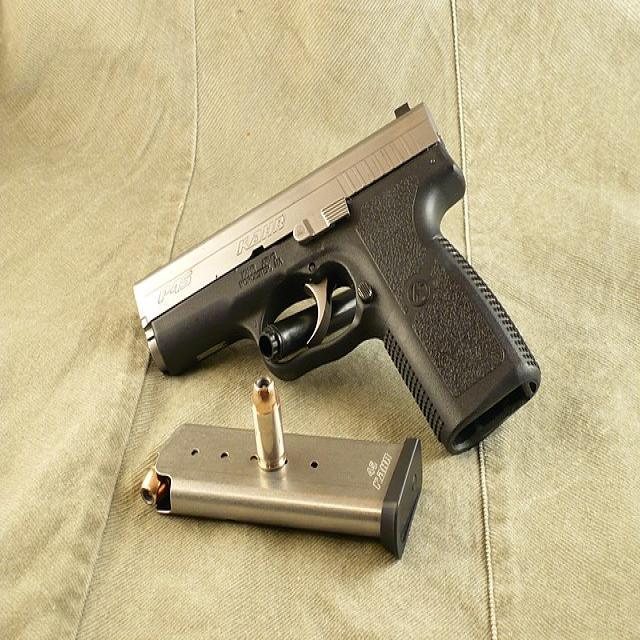HandGun: (133, 111, 542, 456)
